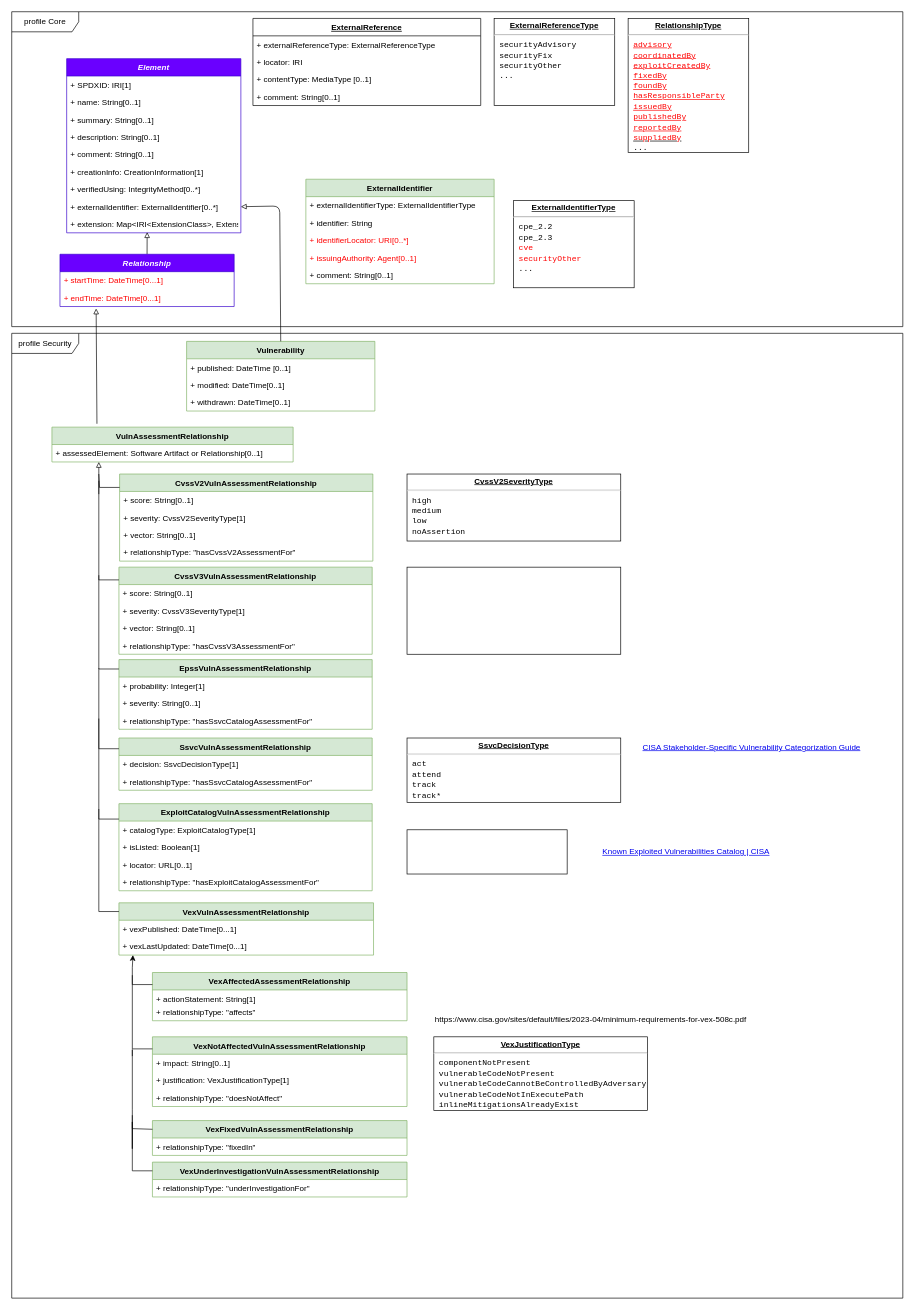
This 915x1310 diagram has some shape labels left out. Here are the shapes that lost their labels. From the top down, the centre of each, then its label:
pixel 513 610: CvssV3SeverityType critical high medium low none noAssertion
pixel 486 851: ExploitCatalog Type kev other
